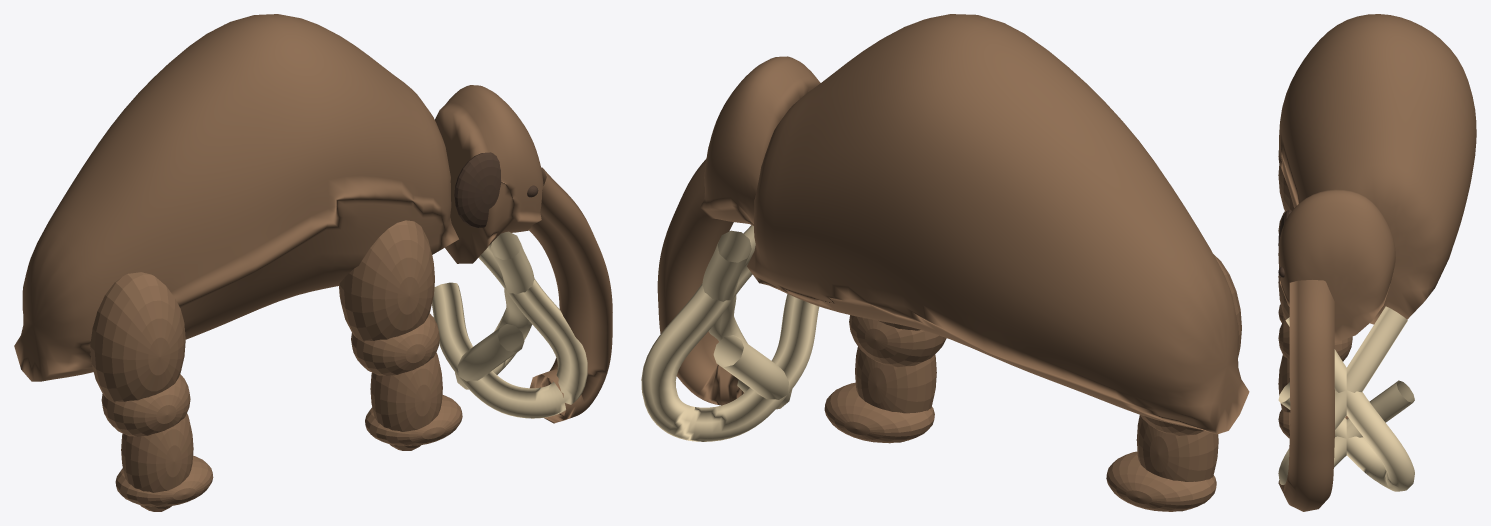
File: mammoth.glb
3 views of the same model, side by side, from view 1: azimuth 30°, elevation 25°; view 2: azimuth 150°, elevation 25°; view 3: azimuth 270°, elevation 25° (orthographic). The views are drawn at different scales.
Visible parts, largest first — view 1: body, head, trunk, muscular upper leg.002, tusk.001, muscular upper leg.001, muscular upper leg, tusk, muscular upper leg.003, tapered lower leg.002, tapered lower leg, ear (+10 smaller); view 2: body, tusk, head, trunk, tusk.001, round foot pad, round foot pad.002, tapered lower leg.003, tapered lower leg, knee, tapered lower leg.001; view 3: body, head, trunk, tusk, tusk.001, knee.001, tapered lower leg, muscular upper leg.002, muscular upper leg.003, knee.
Boxes of the visible parts, box(x1,y1,x2,y2) form: body: box(14, 14, 458, 381); head: box(435, 85, 543, 263); trunk: box(529, 167, 612, 423); muscular upper leg.002: box(90, 272, 185, 401); tusk.001: box(432, 243, 587, 418); muscular upper leg.001: box(339, 220, 434, 340); muscular upper leg: box(339, 220, 434, 340); tusk: box(455, 231, 534, 389); muscular upper leg.003: box(109, 277, 182, 394); tapered lower leg.002: box(121, 413, 193, 511); tapered lower leg: box(370, 352, 442, 450); ear: box(454, 152, 501, 227); body: box(747, 14, 1249, 434); tusk: box(641, 225, 819, 441); head: box(700, 56, 820, 225); trunk: box(657, 158, 743, 405); tusk.001: box(702, 230, 792, 409); round foot pad: box(824, 382, 934, 443); round foot pad.002: box(1106, 451, 1216, 511); tapered lower leg.003: box(1136, 415, 1218, 511); tapered lower leg: box(855, 351, 936, 442); knee: box(849, 315, 944, 367); tapered lower leg.001: box(855, 346, 936, 442); body: box(1278, 14, 1476, 324); head: box(1278, 189, 1396, 342); trunk: box(1278, 280, 1334, 511); tusk: box(1278, 317, 1414, 491); tusk.001: box(1278, 306, 1414, 484); knee.001: box(1278, 319, 1344, 361); tapered lower leg: box(1278, 355, 1289, 411); muscular upper leg.002: box(1278, 165, 1293, 211); muscular upper leg.003: box(1278, 164, 1293, 211); knee: box(1334, 336, 1352, 360).
Size of the model in its own units: 6.06 by 4.6 by 2.19.
